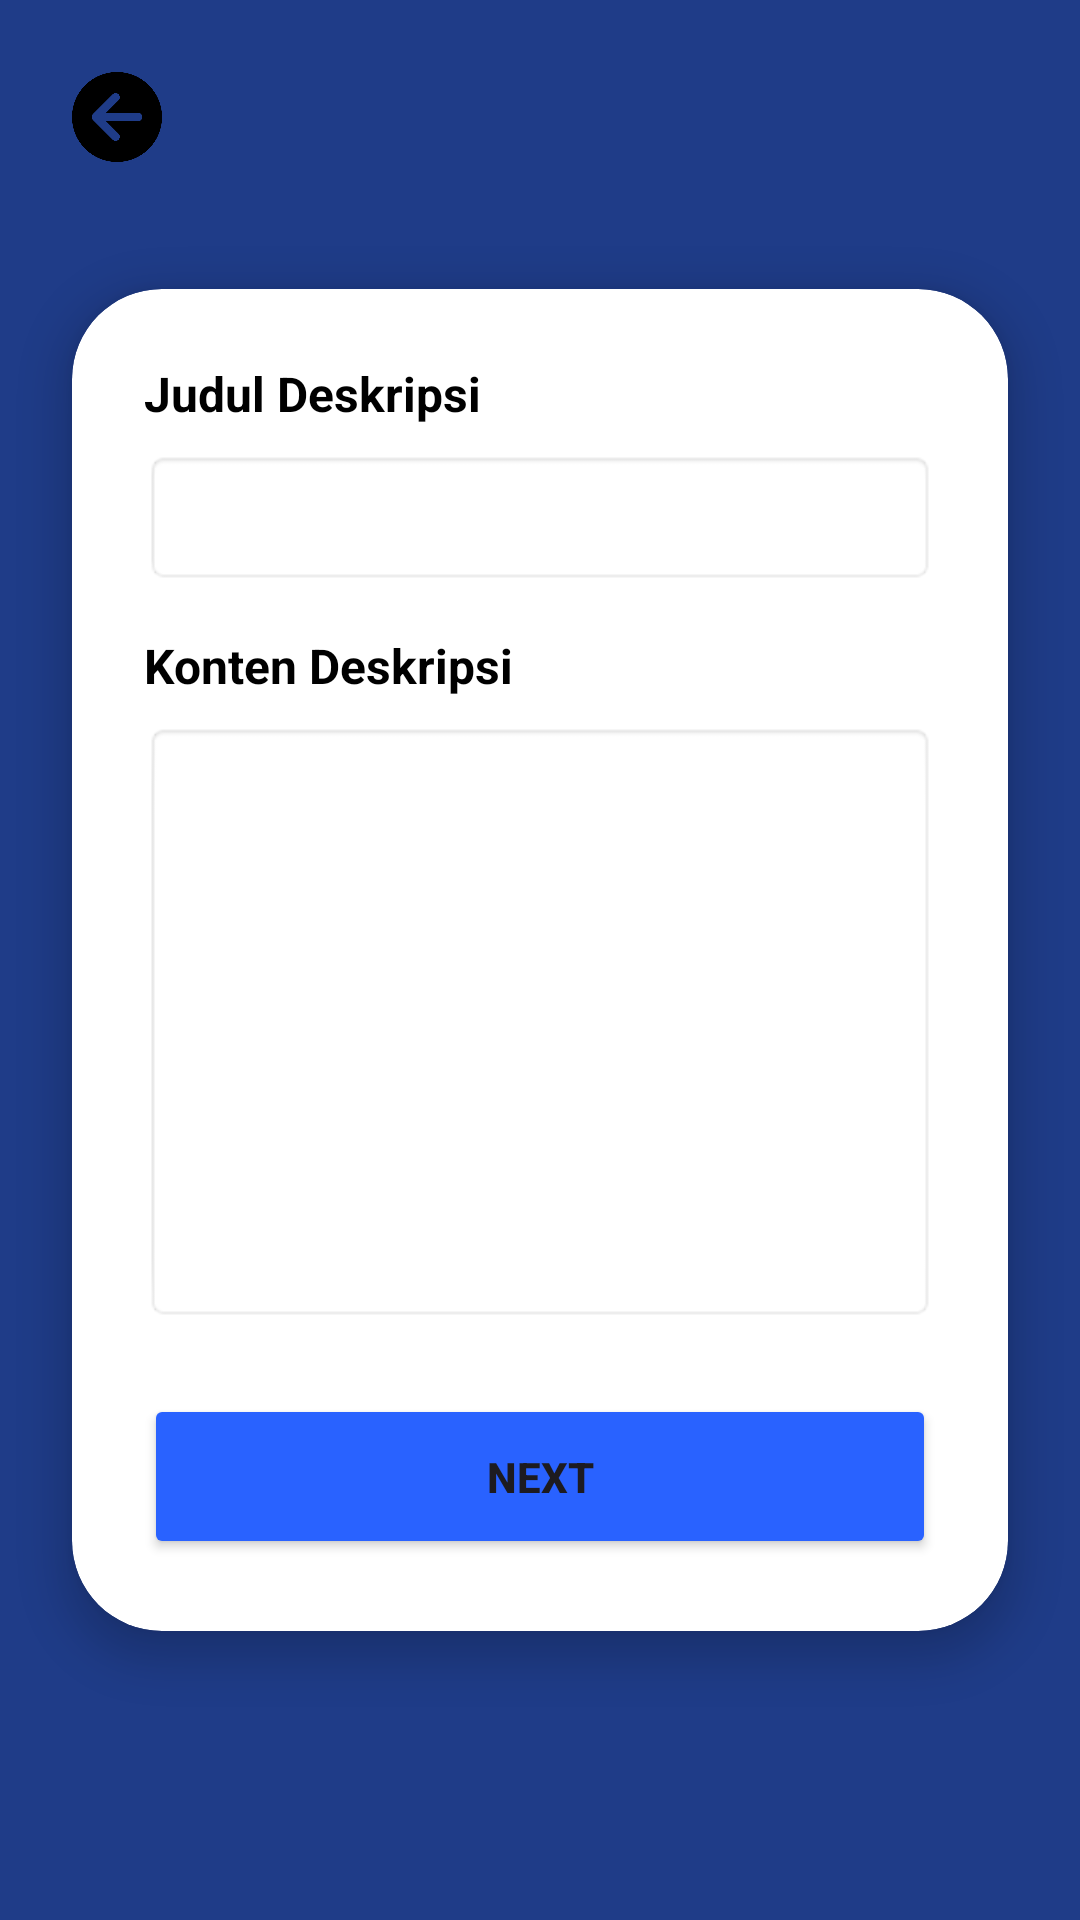

Where icons sit on this 1080*1920 app screen, as (x1, y1, x2, y2):
Back: (72, 72, 162, 162)
